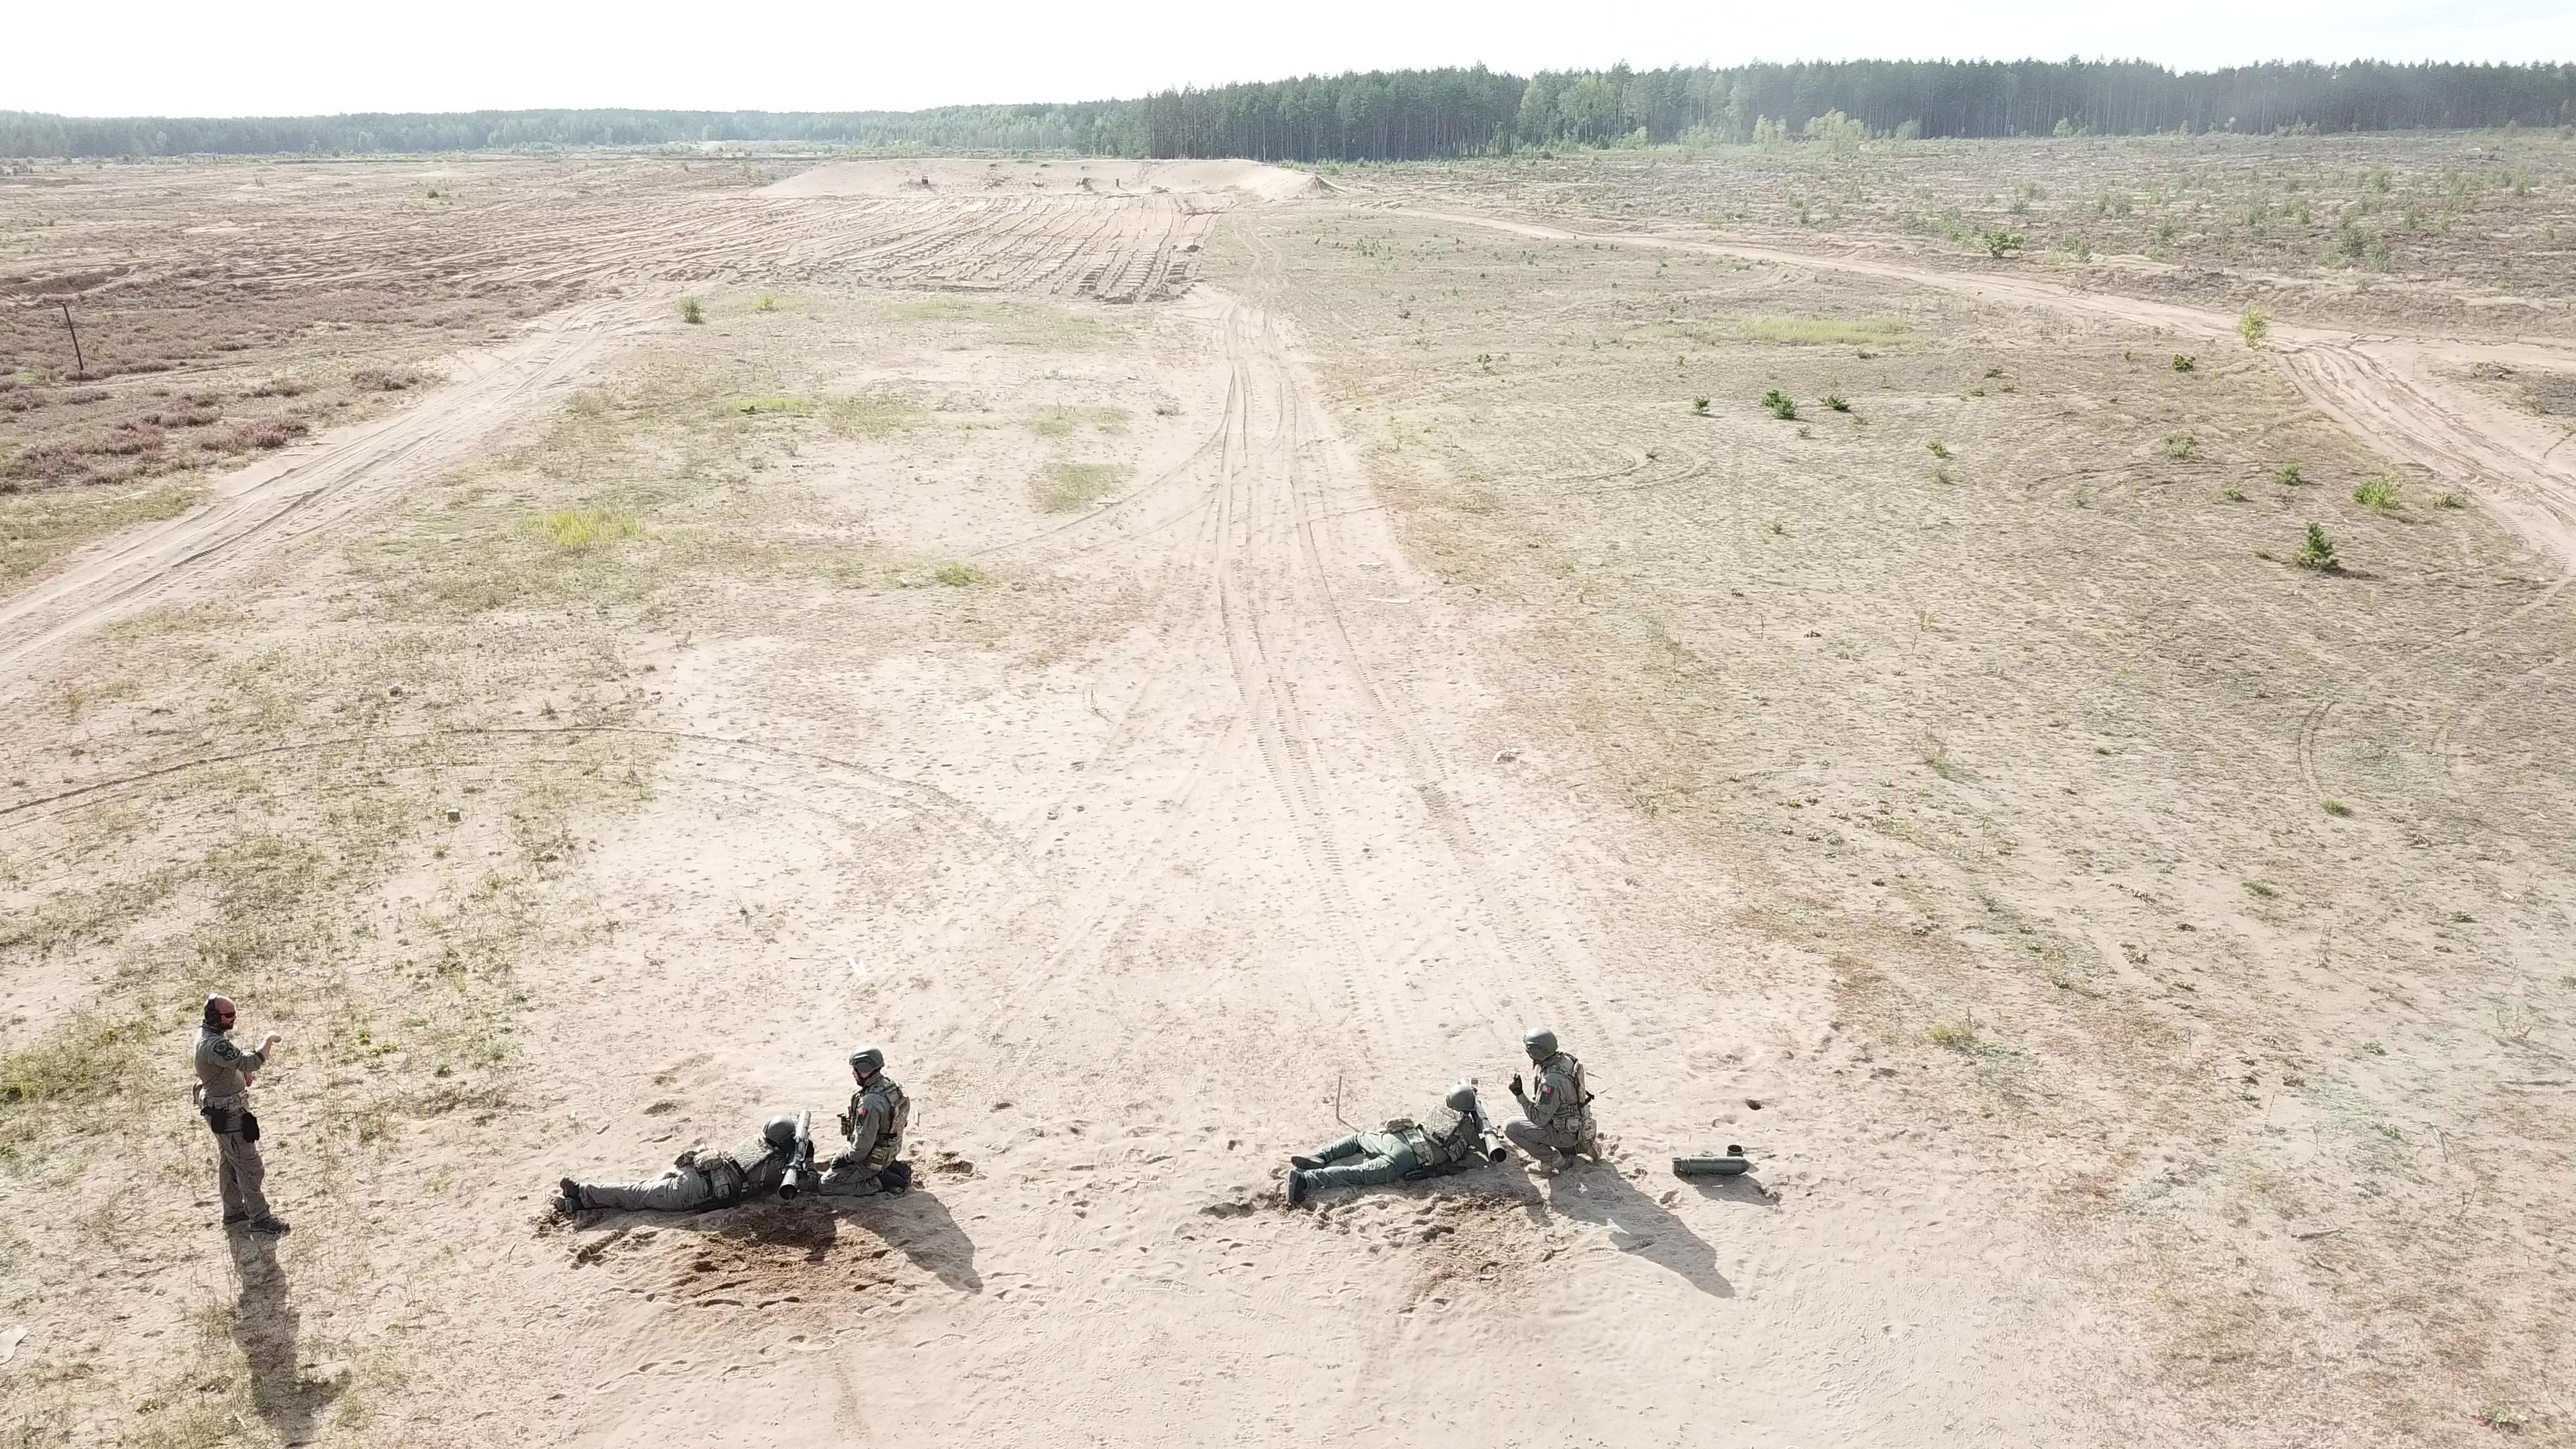Soldier: (552, 1106, 823, 1219), (1283, 1072, 1504, 1207), (193, 991, 294, 1235), (1502, 1024, 1605, 1178), (826, 1044, 916, 1201)
